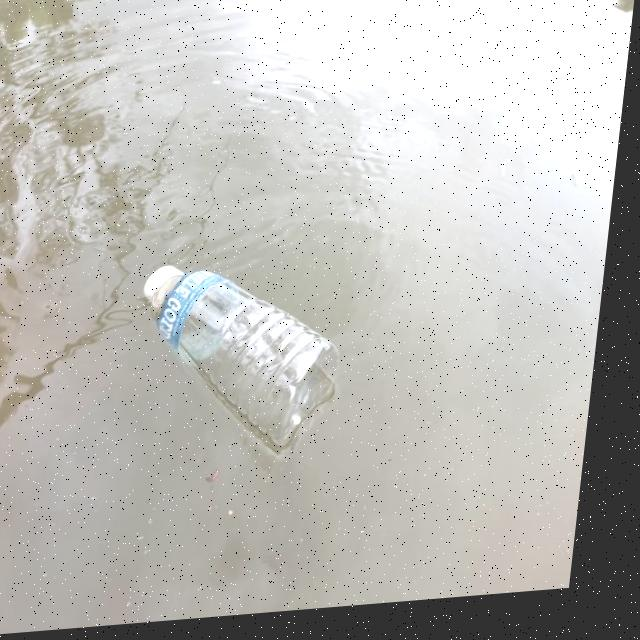waterbottle: (118, 230, 353, 478)
